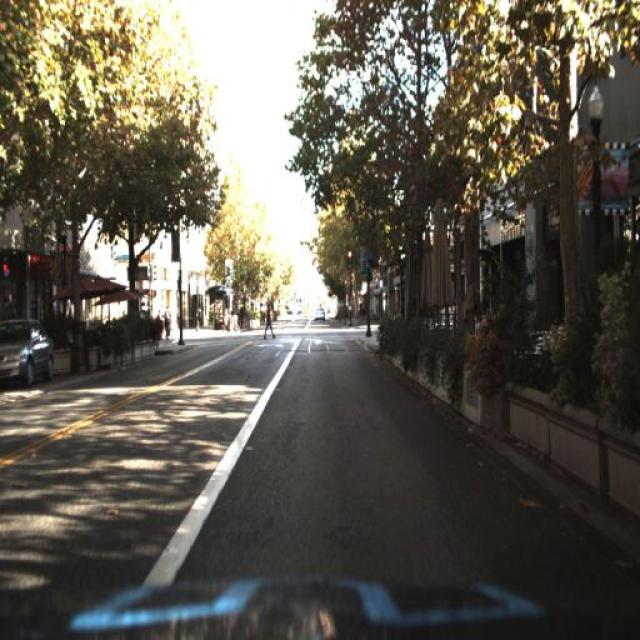trafficLight: (218, 303, 240, 335), (262, 293, 277, 335)
trafficLight-RedLeft: (344, 237, 356, 274)
